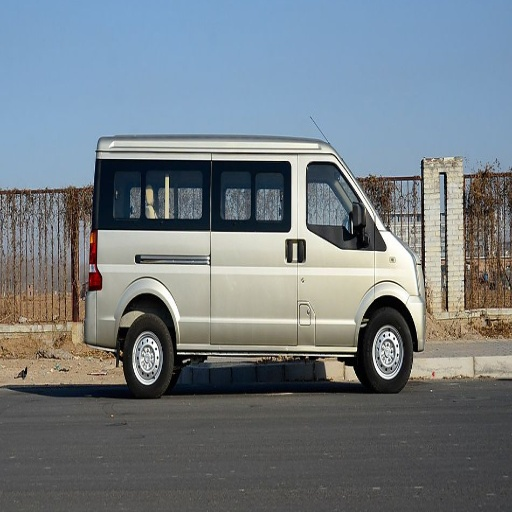trunk: (82, 232, 288, 348), (288, 227, 385, 336)
